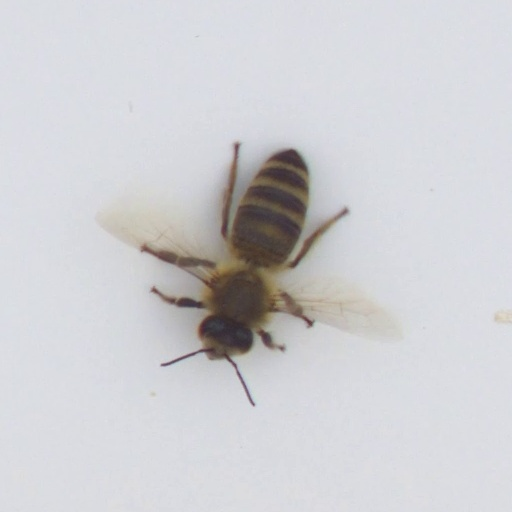Bee: (181, 130, 331, 382)
Thorax: (205, 265, 278, 326)
